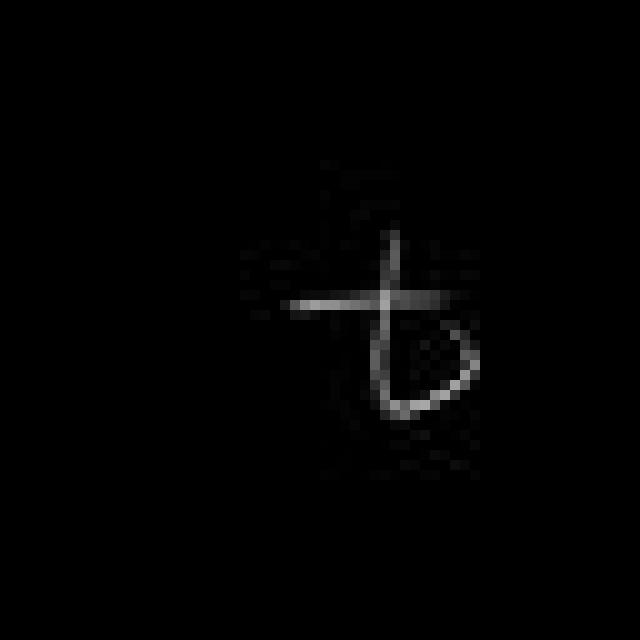7 -seven-: (280, 233, 494, 427)
